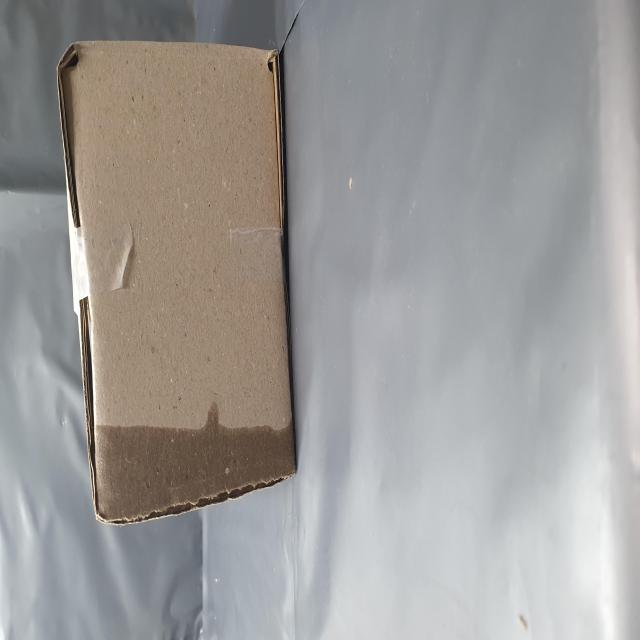wet: (69, 155, 335, 503)
